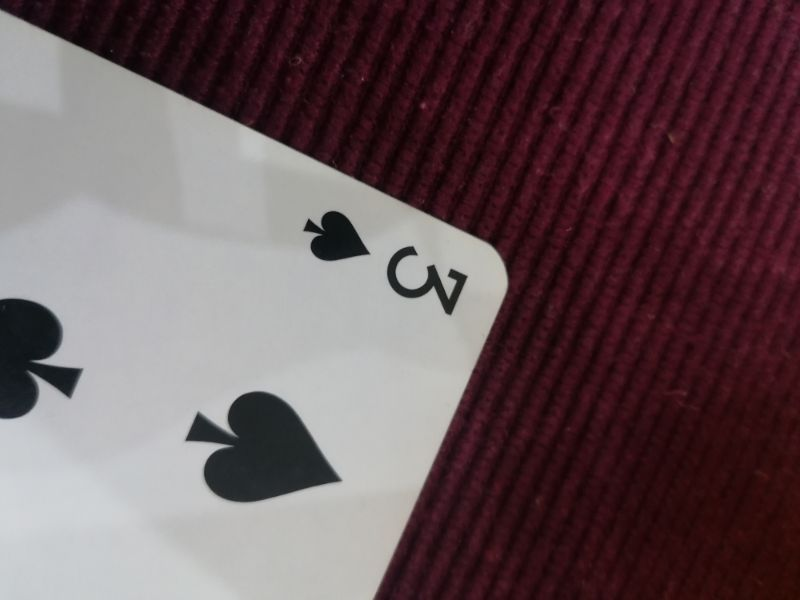3s: (295, 198, 475, 322)
